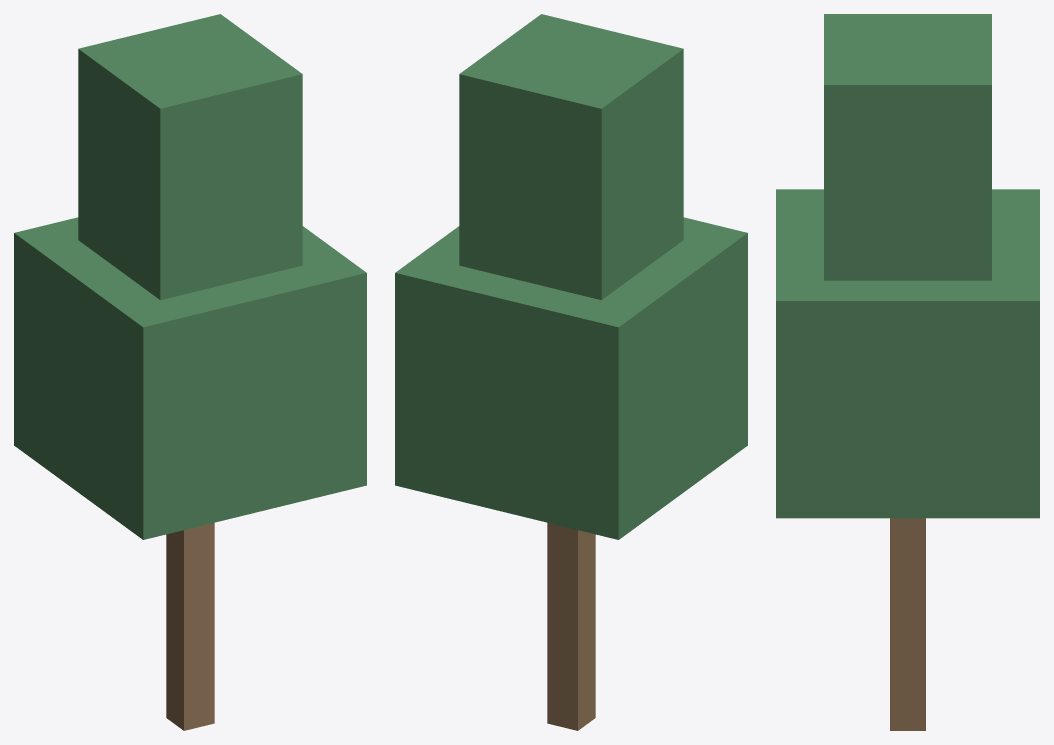
Rendered from pine.glb.
3 renders of one model, left to right at view 1: azimuth 30°, elevation 25°; view 2: azimuth 150°, elevation 25°; view 3: azimuth 270°, elevation 25°, orthographic. The views are drawn at different scales.
Bounding box in the file's own units: 2.2 × 6.2 × 2.2.
